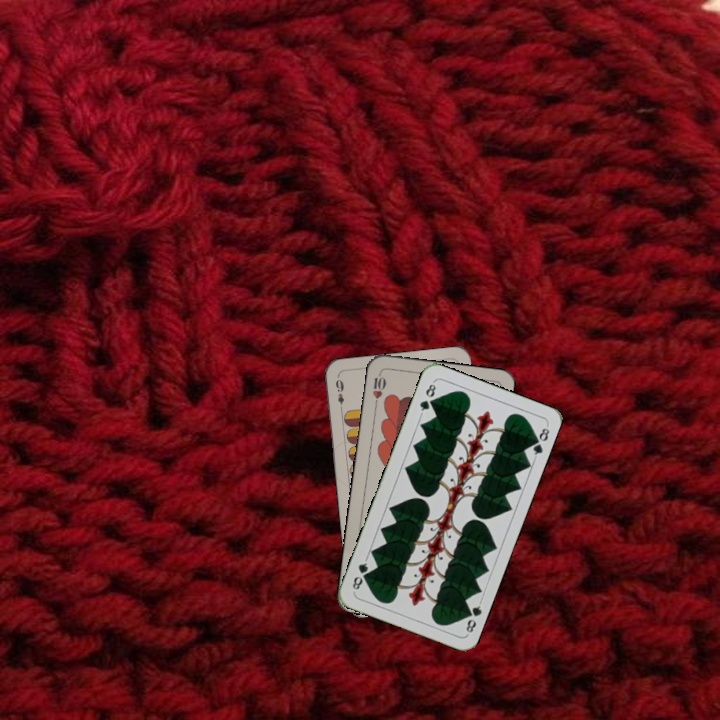E9: (331, 373, 346, 414)
G8: (416, 378, 439, 417), (461, 598, 484, 635)
H10: (369, 368, 388, 409)
